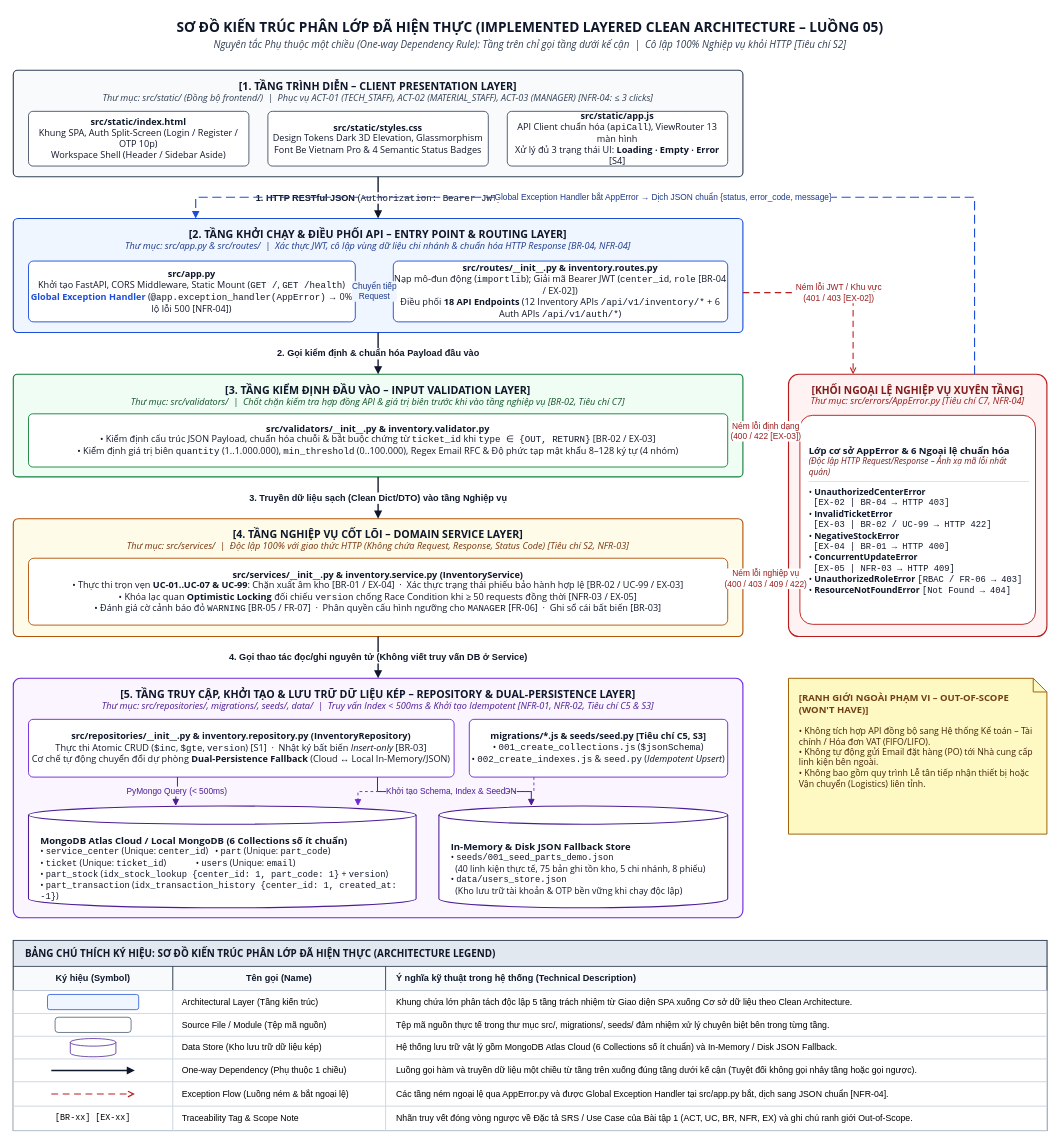
This 1061x1144 diagram has some shape labels left out. Each missing label, with the centre of its shape:
DB: the point at 93,1047
module.py: the point at 92,1024
Tầng [1..5]: the point at 93,1002
